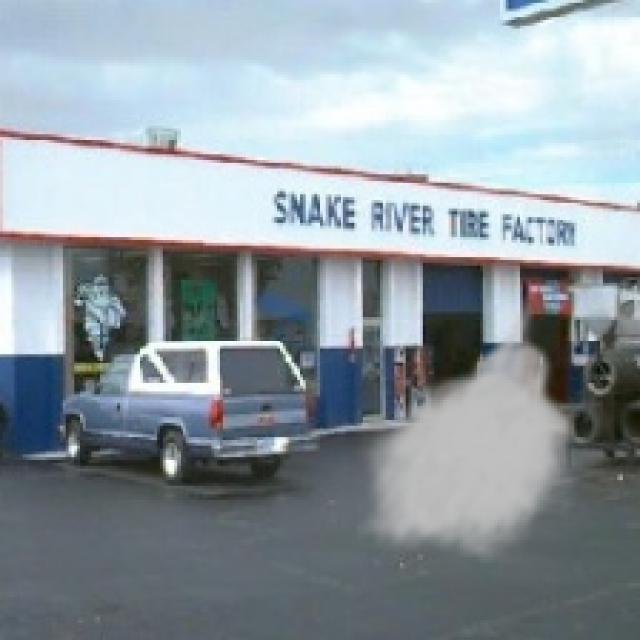Smoke: (354, 288, 580, 563)
